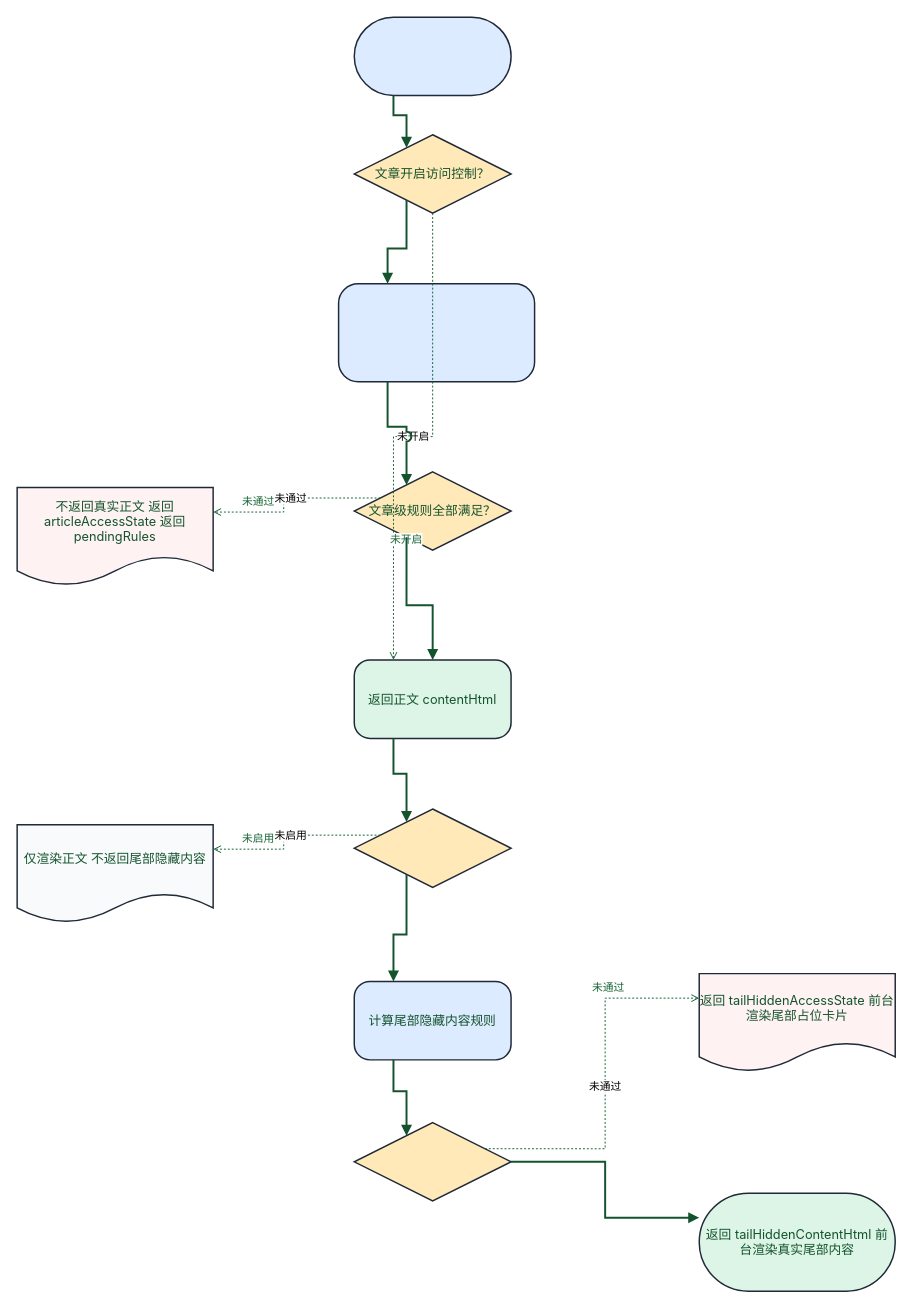
Some shapes in this 913 by 1309 pixel diagram are drawn without their labels. Each missing label, with the centre of its shape:
"启用尾部隐藏内容？" belongs at pixel 432 848.
"尾部规则满足？" belongs at pixel 432 1161.
"计算文章级规则 LOGIN / ACCESS_CODE WECHAT_ACCESS_CODE" belongs at pixel 436 332.
"进入文章详情请求" belongs at pixel 432 56.
